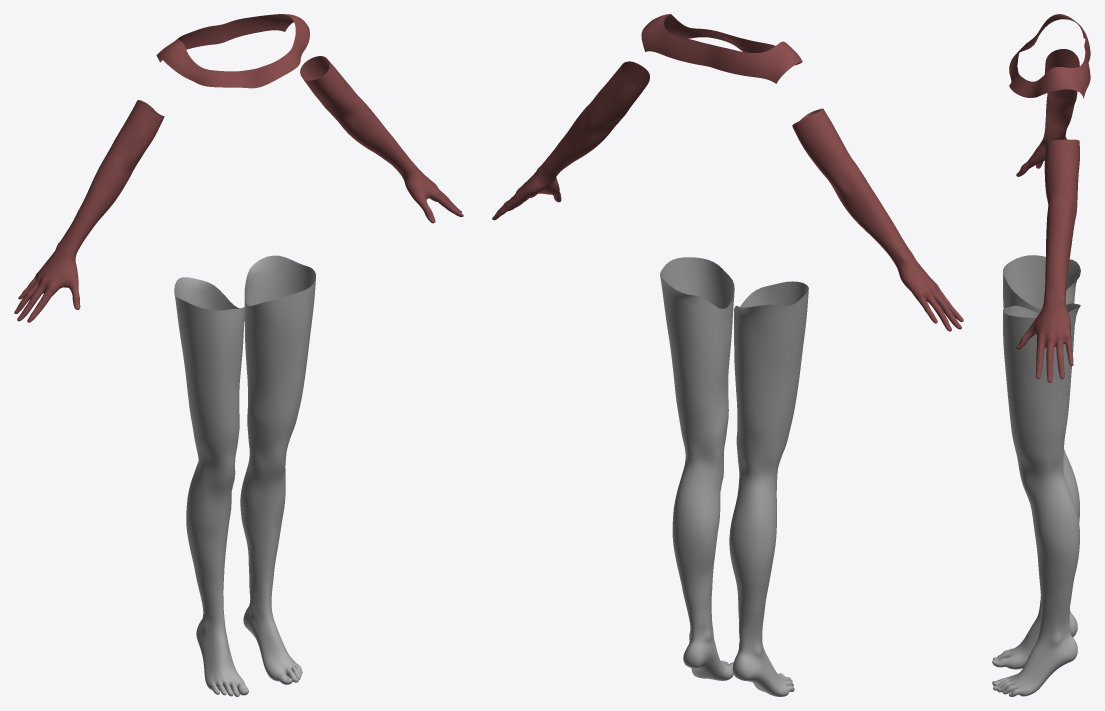
3 views of the same model, side by side, from view 1: azimuth 30°, elevation 25°; view 2: azimuth 150°, elevation 25°; view 3: azimuth 270°, elevation 25° (orthographic). The views are drawn at different scales.
Visible parts, largest first — view 1: SY_Woman_Body_01; view 2: SY_Woman_Body_01; view 3: SY_Woman_Body_01.
Part boxes in pixels (box(x1,y1,x2,y2)): SY_Woman_Body_01: box(14, 14, 463, 696); SY_Woman_Body_01: box(492, 14, 963, 696); SY_Woman_Body_01: box(992, 14, 1090, 696).
Bounding box in the file's own units: 103 × 142 × 19.82.
